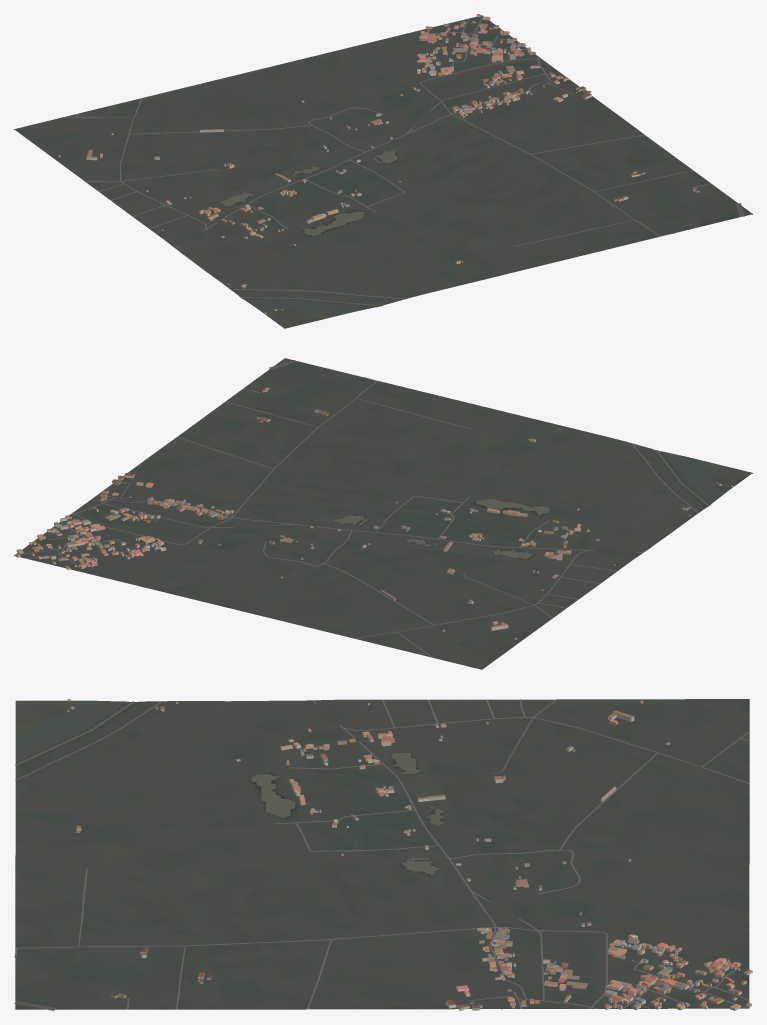
3 renders of one model, top to bottom at view 1: azimuth 30°, elevation 25°; view 2: azimuth 150°, elevation 25°; view 3: azimuth 270°, elevation 25°, orthographic. The views are drawn at different scales.
Parts seen in each view (by area): view 1: ground, buildings, roads, water; view 2: ground, buildings, roads, water; view 3: ground, buildings, roads, water.
Boxes of the visible parts, left/top/right/bottom form: ground: left=14, top=15, right=752, bottom=328; buildings: left=58, top=14, right=699, bottom=314; roads: left=62, top=15, right=744, bottom=299; water: left=220, top=150, right=397, bottom=306; ground: left=14, top=358, right=752, bottom=669; buildings: left=15, top=387, right=733, bottom=639; roads: left=15, top=360, right=698, bottom=657; water: left=333, top=450, right=709, bottom=558; ground: left=15, top=699, right=749, bottom=1009; buildings: left=66, top=699, right=752, bottom=1010; roads: left=14, top=699, right=749, bottom=1010; water: left=15, top=701, right=445, bottom=875.
Bounding box in the file's own units: 1410 × 18.1 × 1411.
